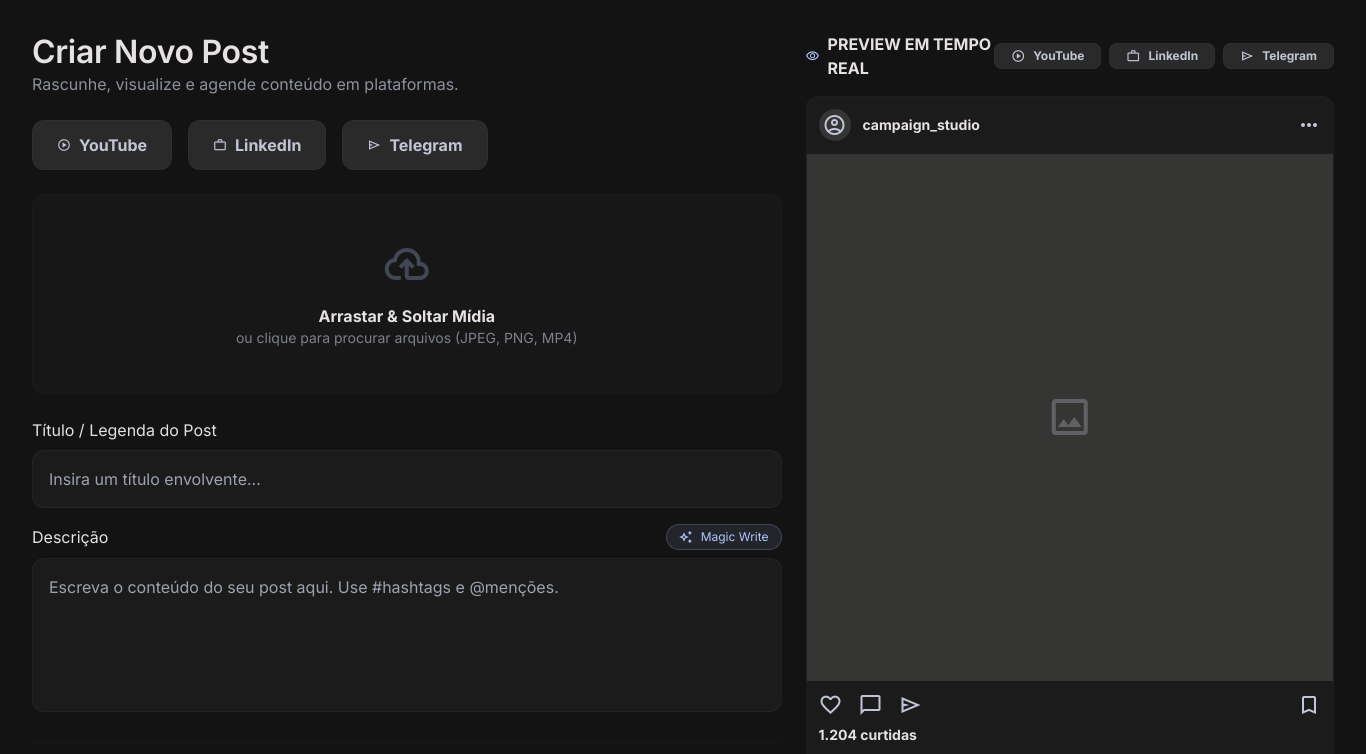
Test: NewPostPage › shows linkedin composer when LinkedIn is selected
Click the button "LinkedIn" below "Criar Novo Post".
click(257, 145)  # box [188,120,326,170]
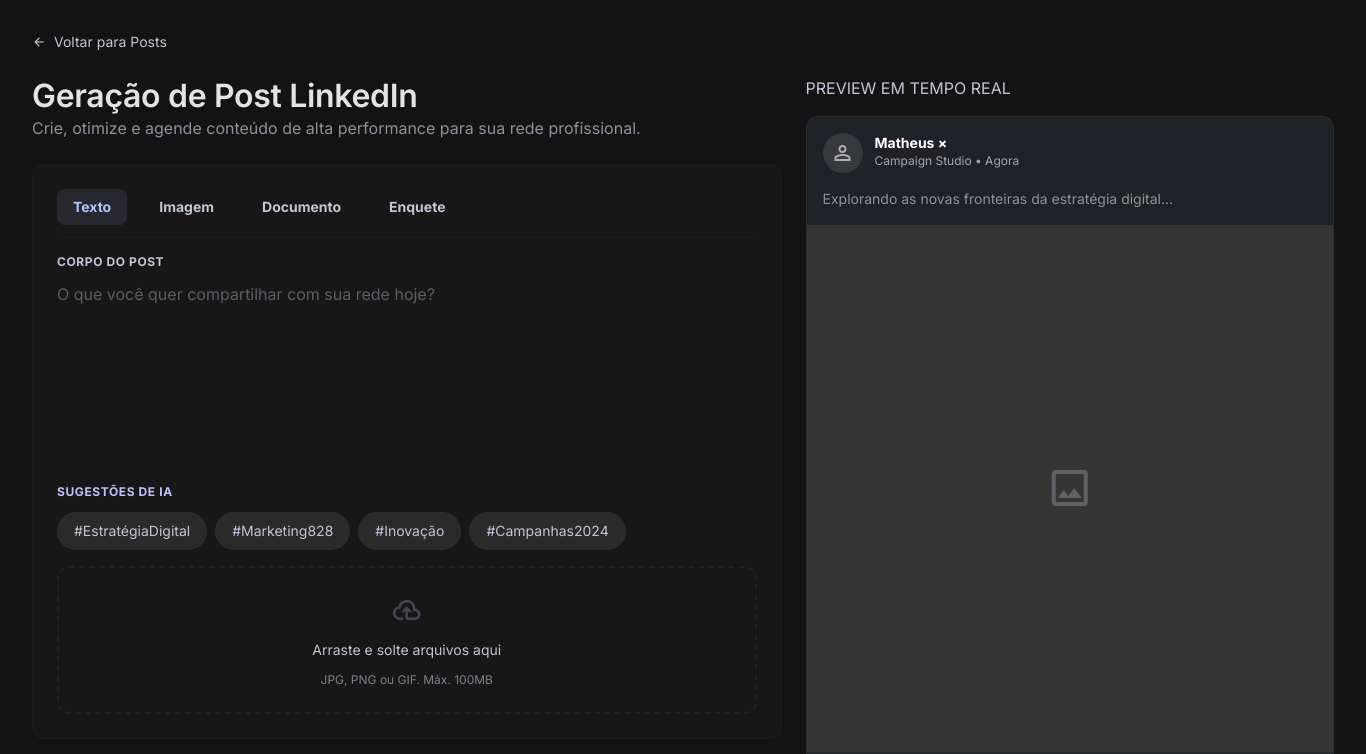
Expected: the heading "Geração de Post LinkedIn" is shown, [32,76,418,115]
